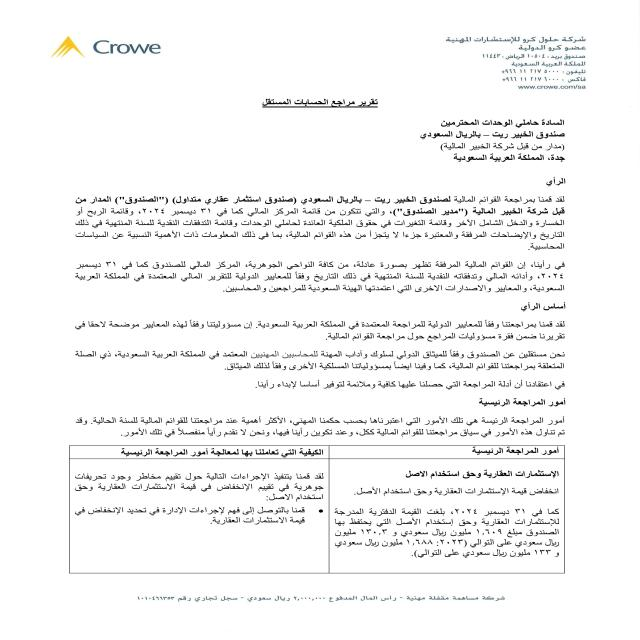auditor_report: (229, 94, 404, 121)
